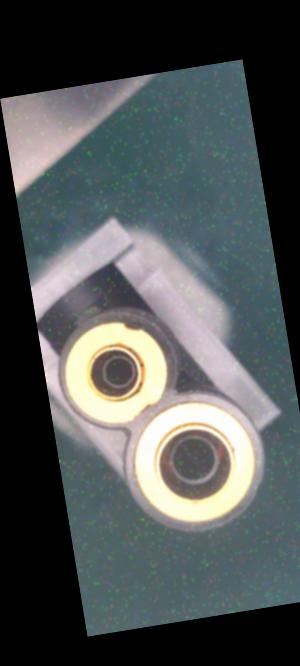bump: (117, 315, 150, 337), (125, 398, 157, 420)
